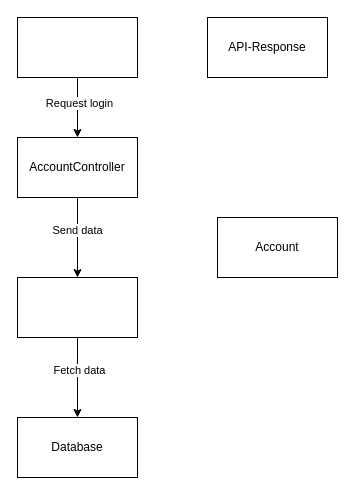
Some shapes in this 355 by 495 pixel diagram are drawn without their labels. The shapes that lost their labels are listed below. From the top down, each one's box as (x1, y1, x2, y2) in pixels, then its label:
(16, 16, 138, 78): API-Request
(16, 276, 138, 338): LoginService
